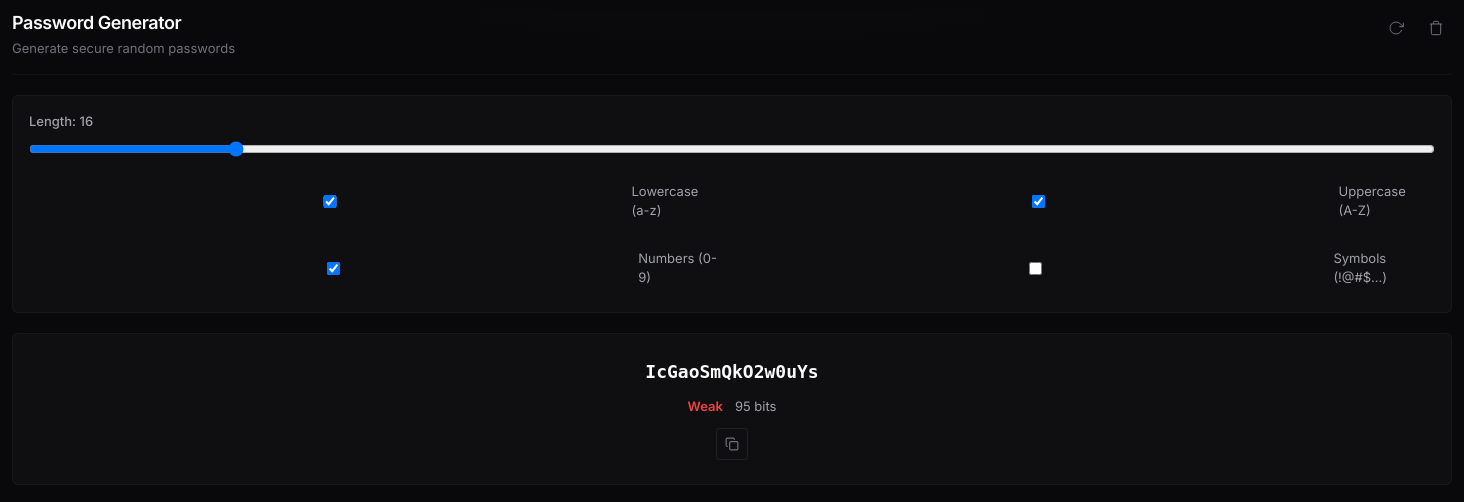
Test: PasswordTool › should clear when clear button clicked
The image size is (1464, 502).
What coordinates should you click on to do the following:
click the button named "Regenerate password"
I would click on:
 (1396, 28)
Its box is [1380, 12, 1412, 44].
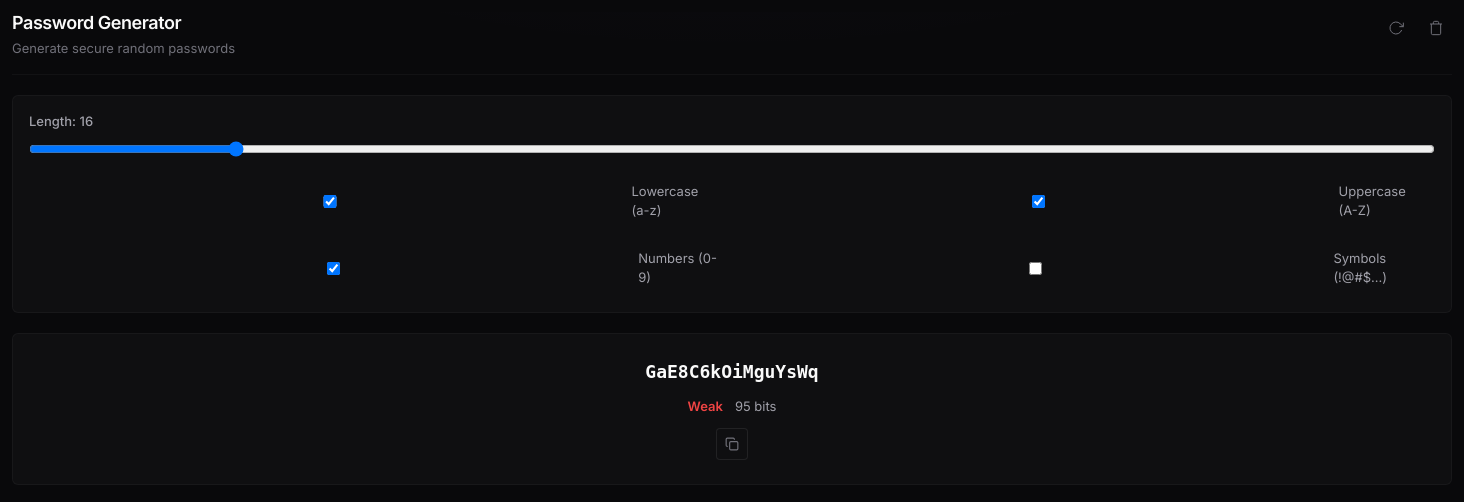
What coordinates should you click on to do the following:
click the button named "Clear password"
I would click on:
 (1436, 28)
Its box is [1420, 12, 1452, 44].
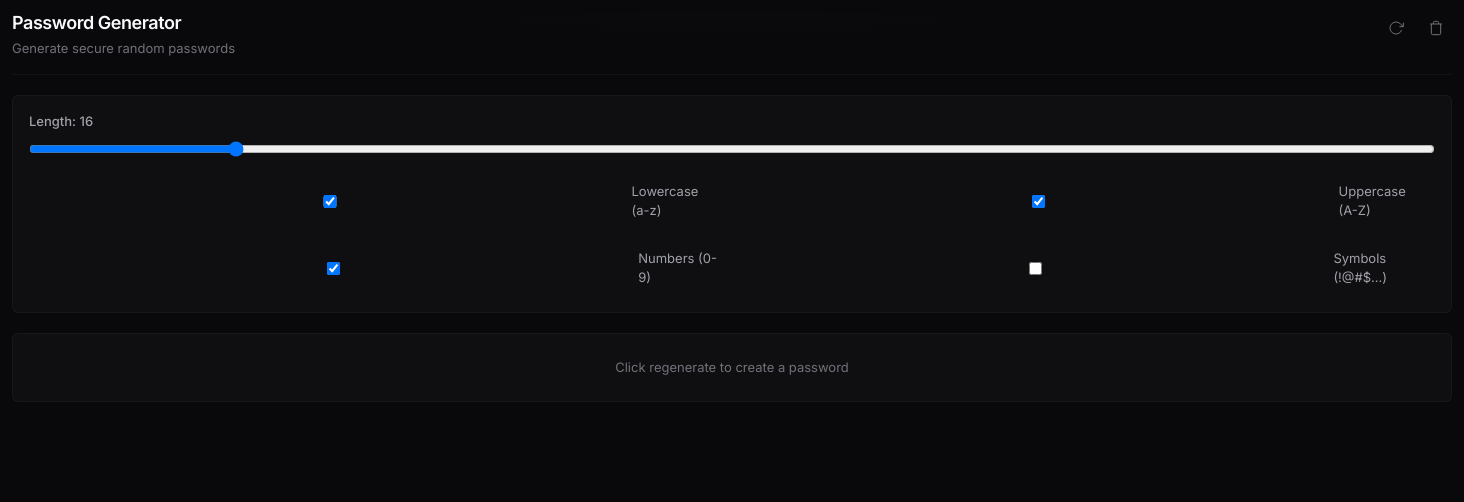
Expected: the slider named "Password length" holds "16", [29, 140, 1435, 158]
Now the message "Click regenerate to create a password" is shown, box [12, 332, 1452, 402]
